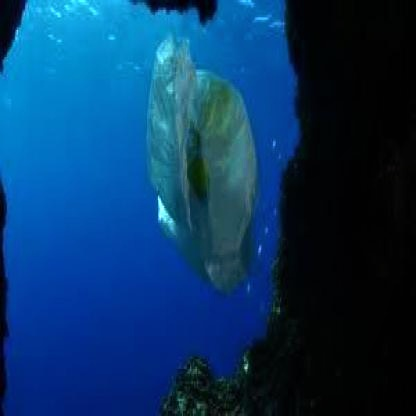pbag: (146, 32, 259, 297)
